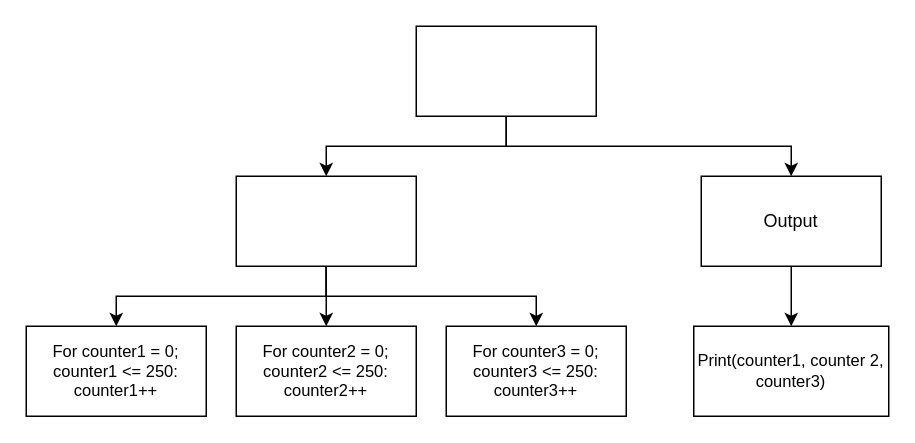
The diagram is 915 pixels wide and 443 high, and some of its shapes have lost their labels. The centre of each missing label's shape, as x and y in pixels:
"Process" goes at [325,220].
"RGB" goes at [505,70].
